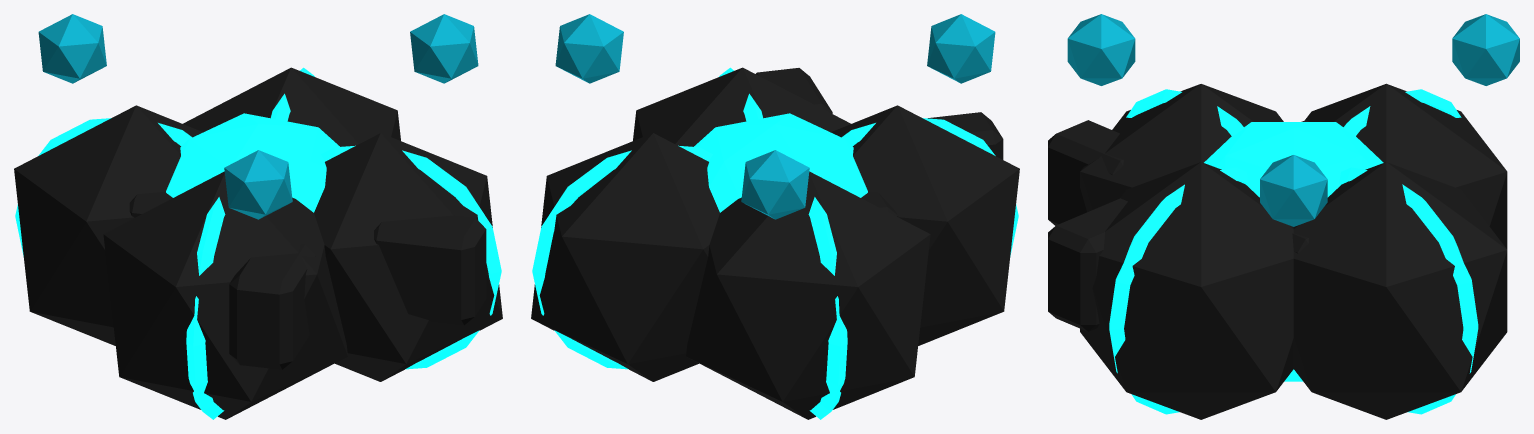
The model's file is splitter.glb.
3 views of the same model, side by side, from view 1: azimuth 30°, elevation 25°; view 2: azimuth 150°, elevation 25°; view 3: azimuth 270°, elevation 25° (orthographic). The views are drawn at different scales.
Visible parts, largest first — view 1: Cube029, Cube030, Cube028, Icosphere006, Icosphere006_1, Cube027, Cube030_1, Cube029_1, Cube028_1; view 2: Cube028, Cube027, Cube029, Icosphere006, Cube030, Icosphere006_1, Cube027_1, Cube028_1, Cube029_1; view 3: Cube030, Cube027, Cube029, Cube028, Icosphere006, Icosphere006_1, Cube027_1, Cube030_1, Cube028_1, Cube029_1.
Boxes of the visible parts, x1=… form: Cube029: x1=103, y1=171, x2=347, y2=419; Cube030: x1=314, y1=133, x2=502, y2=381; Cube028: x1=14, y1=105, x2=202, y2=345; Icosphere006: x1=38, y1=14, x2=478, y2=219; Icosphere006_1: x1=166, y1=113, x2=339, y2=212; Cube027: x1=183, y1=67, x2=400, y2=146; Cube030_1: x1=321, y1=145, x2=501, y2=369; Cube029_1: x1=186, y1=197, x2=225, y2=419; Cube028_1: x1=15, y1=118, x2=192, y2=255; Cube028: x1=686, y1=171, x2=930, y2=419; Cube027: x1=531, y1=133, x2=719, y2=381; Cube029: x1=831, y1=105, x2=1019, y2=345; Icosphere006: x1=555, y1=14, x2=995, y2=219; Cube030: x1=633, y1=67, x2=850, y2=146; Icosphere006_1: x1=694, y1=113, x2=867, y2=212; Cube027_1: x1=532, y1=145, x2=712, y2=369; Cube028_1: x1=808, y1=197, x2=847, y2=419; Cube029_1: x1=841, y1=118, x2=1018, y2=255; Cube030: x1=1048, y1=162, x2=1293, y2=419; Cube027: x1=1292, y1=162, x2=1507, y2=419; Cube029: x1=1048, y1=84, x2=1283, y2=225; Cube028: x1=1301, y1=83, x2=1507, y2=249; Icosphere006: x1=1067, y1=14, x2=1519, y2=226; Icosphere006_1: x1=1204, y1=122, x2=1383, y2=381; Cube027_1: x1=1339, y1=167, x2=1478, y2=414; Cube030_1: x1=1109, y1=167, x2=1248, y2=414; Cube028_1: x1=1343, y1=89, x2=1461, y2=136; Cube029_1: x1=1126, y1=89, x2=1243, y2=136.
Bounding box in the file's own units: 0.8389 × 0.62 × 0.8289.
